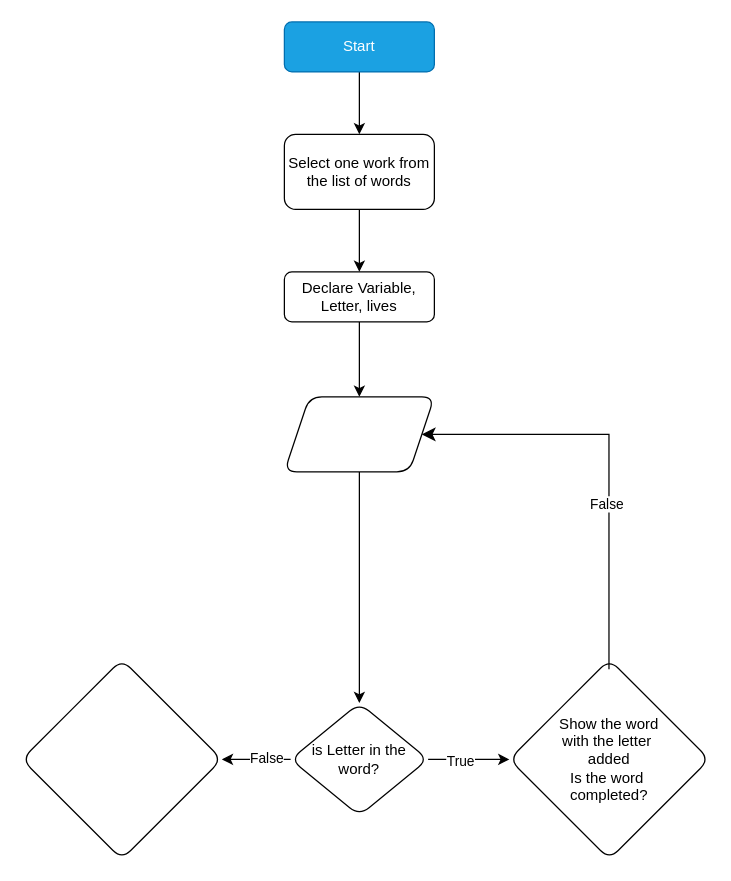
The diagram is 731 pixels wide and 881 high, and some of its shapes have lost their labels. Here are the shapes that lost their labels. From the top down, the centre of each, then its label:
At point 358,434: "Read Letter".
At point 121,758: "Add more one part of the man Life -1 Still have life?".
